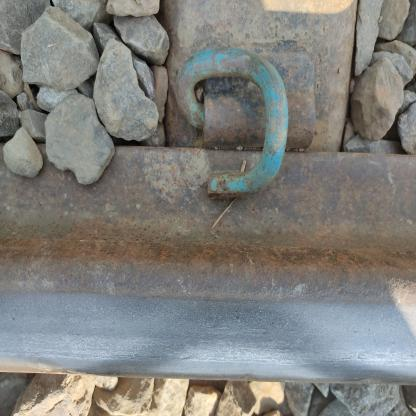Non Defective: (152, 20, 352, 261)
